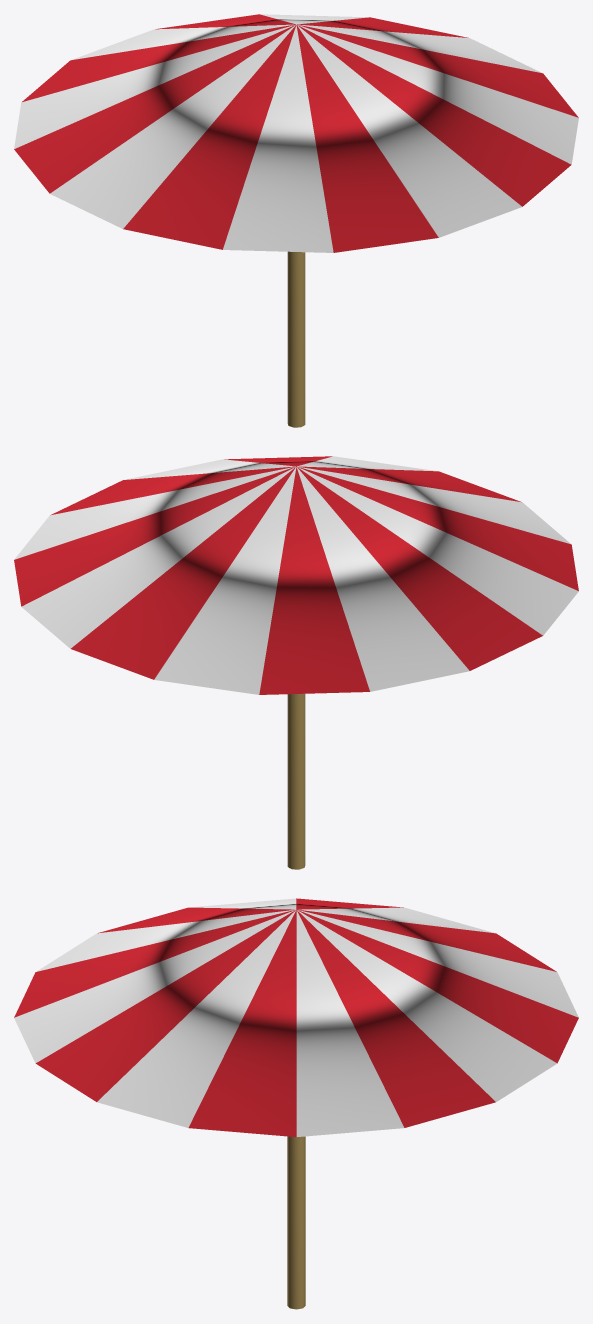
The model's file is Umbrella.glb.
3 renders of one model, top to bottom at view 1: azimuth 30°, elevation 25°; view 2: azimuth 150°, elevation 25°; view 3: azimuth 270°, elevation 25°, orthographic.
Parts seen in each view (by area): view 1: Cone, Cylinder; view 2: Cone, Cylinder; view 3: Cone, Cylinder.
Part boxes in pixels (x1,y1,x2,y2): Cone: [14, 14, 578, 252]; Cylinder: [287, 251, 305, 427]; Cone: [14, 456, 578, 694]; Cylinder: [287, 693, 305, 869]; Cone: [14, 898, 578, 1137]; Cylinder: [287, 1136, 305, 1309].
Size of the model in its own units: 4.6 by 3.56 by 4.6.
